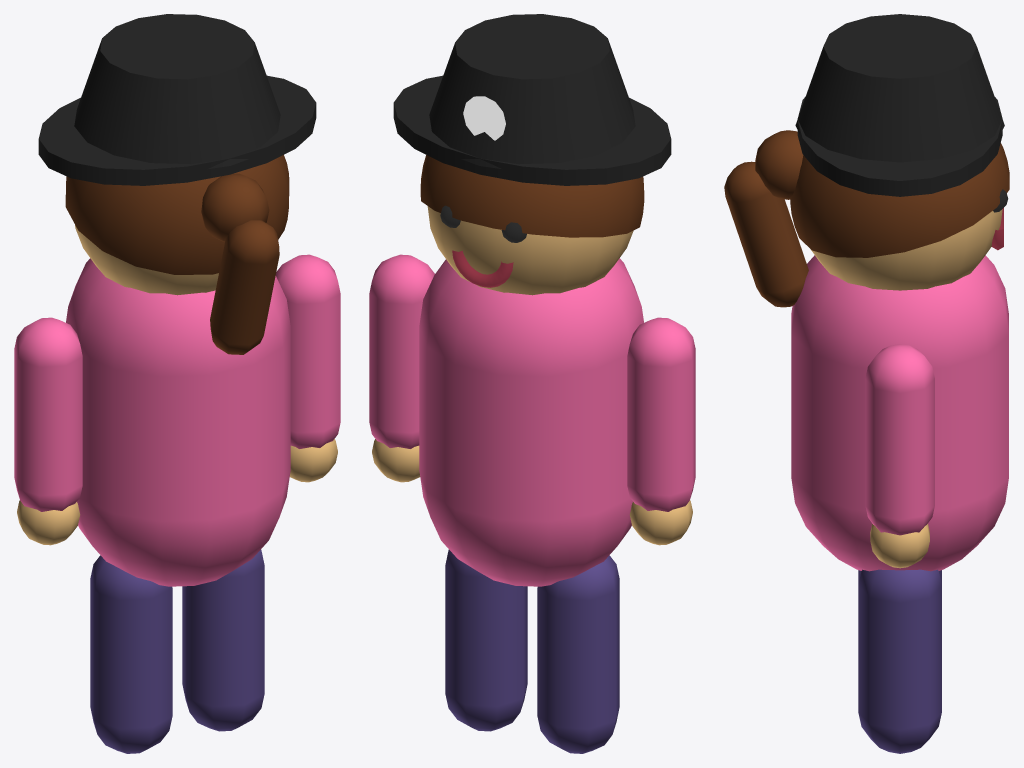
Rendered from outfit-pirateHat.glb.
3 renders of one model, left to right at view 1: azimuth 30°, elevation 25°; view 2: azimuth 150°, elevation 25°; view 3: azimuth 270°, elevation 25°, orthographic.
Visible parts, largest first — view 1: head, torso, armL, legL, legR, armR; view 2: torso, head, armL, legL, legR, armR; view 3: head, torso, legR, armR.
Part boxes in pixels (bbox=[...]): head: bbox=[38, 14, 316, 354]; torso: bbox=[66, 258, 290, 586]; armL: bbox=[14, 317, 82, 545]; legL: bbox=[90, 555, 172, 753]; legR: bbox=[182, 549, 264, 731]; armR: bbox=[275, 254, 340, 482]; torso: bbox=[419, 258, 643, 586]; head: bbox=[393, 14, 671, 295]; armL: bbox=[627, 317, 695, 545]; legL: bbox=[537, 555, 619, 753]; legR: bbox=[445, 549, 527, 731]; armR: bbox=[369, 254, 434, 482]; head: bbox=[724, 14, 1009, 307]; torso: bbox=[791, 255, 1008, 571]; legR: bbox=[858, 569, 941, 753]; armR: bbox=[865, 344, 934, 568].
Size of the model in its own units: 1.04 by 2.15 by 0.818.
